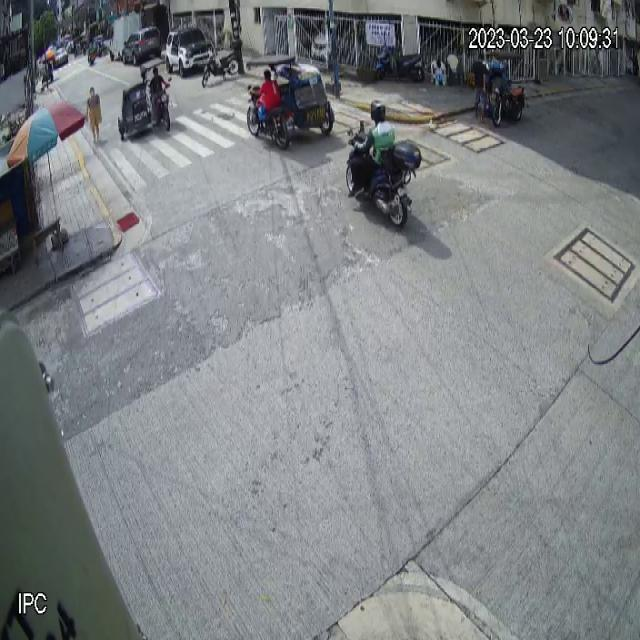Motorcycle: (346, 125, 422, 228)
Tricycle: (246, 54, 336, 150), (117, 57, 171, 141)
